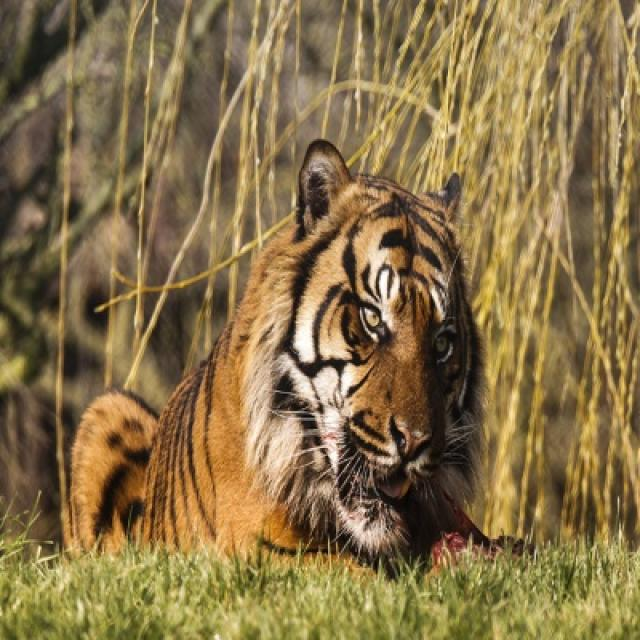Tiger: (1, 157, 544, 567)
